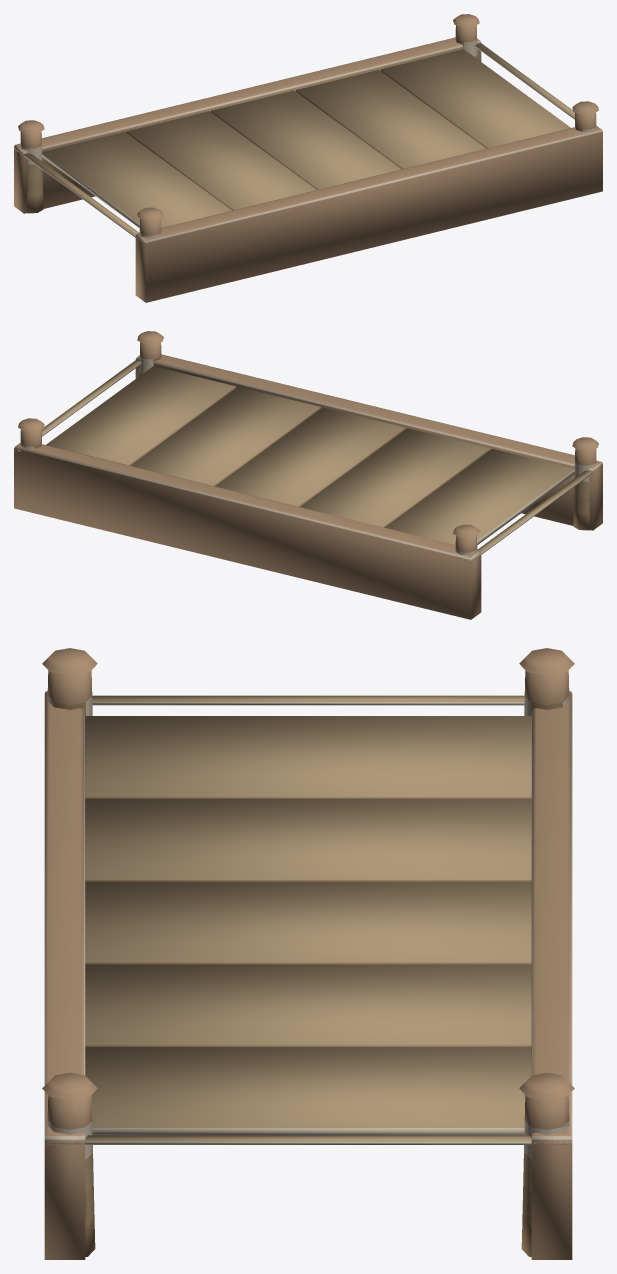
File: bridge-log-2.glb
3 renders of one model, top to bottom at view 1: azimuth 30°, elevation 25°; view 2: azimuth 150°, elevation 25°; view 3: azimuth 270°, elevation 25°, orthographic. The views are drawn at different scales.
Parts seen in each view (by area): view 1: bridge_log_2; view 2: bridge_log_2; view 3: bridge_log_2.
Boxes of the visible parts, x1,y1,x2,y2 form: bridge_log_2: (14,14,602,302); bridge_log_2: (14,331,602,619); bridge_log_2: (42,648,574,1259).
Size of the model in its own units: 8.37 by 1.46 by 4.2.
